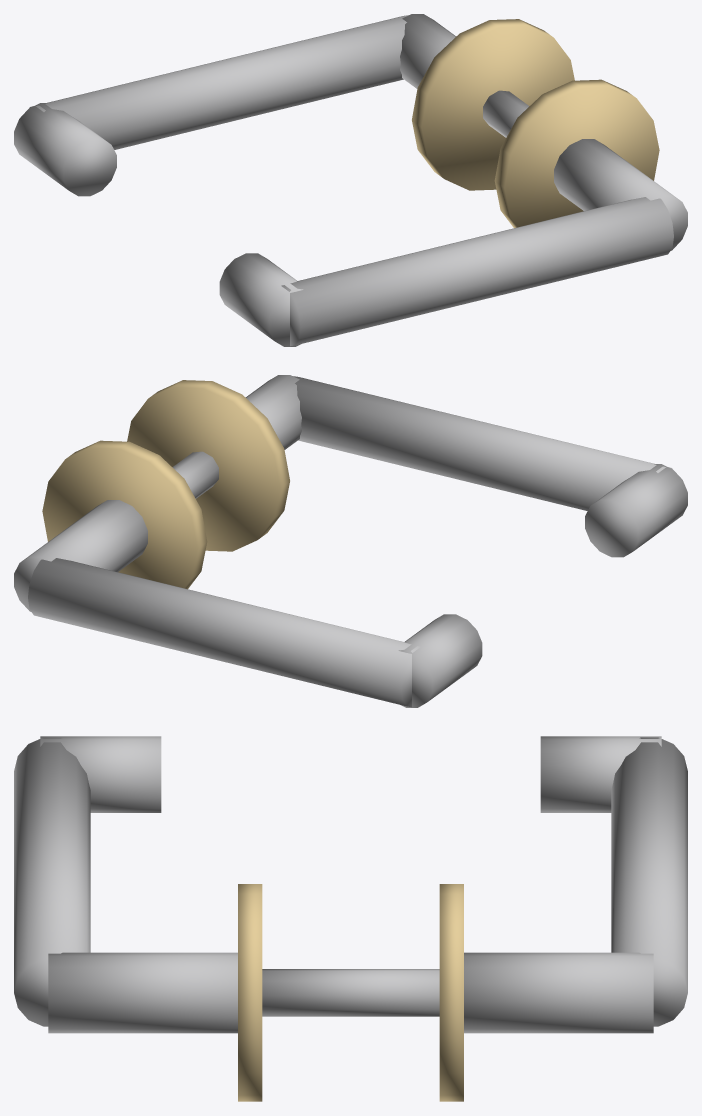
File: lever_handle.glb
3 views of the same model, one above another, from view 1: azimuth 30°, elevation 25°; view 2: azimuth 150°, elevation 25°; view 3: azimuth 270°, elevation 25° (orthographic). The views are drawn at different scales.
Visible parts, largest first — view 1: lever_handle; view 2: lever_handle; view 3: lever_handle.
Boxes of the visible parts, <box> form: lever_handle: <box>14,14,687,346</box>; lever_handle: <box>14,375,687,707</box>; lever_handle: <box>14,736,687,1101</box>.
Bounding box in the file's own units: 0.1643 × 0.054 × 0.167.
